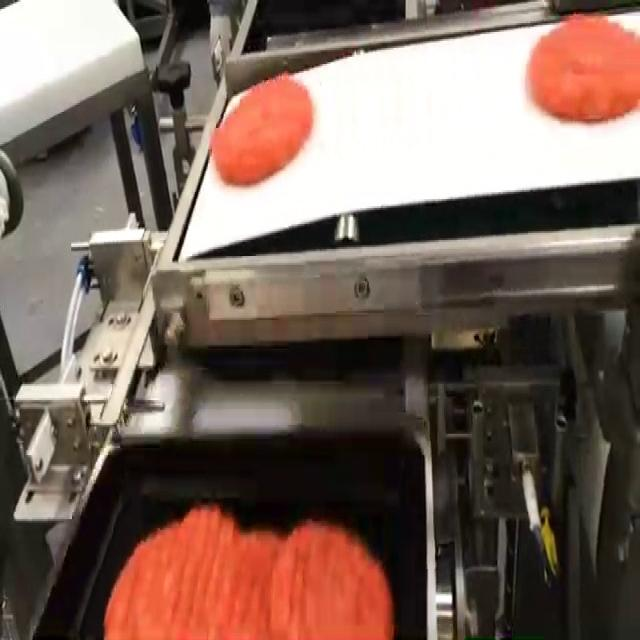4-hamburguer: (104, 505, 394, 638)
hamburguer: (212, 73, 313, 185)
